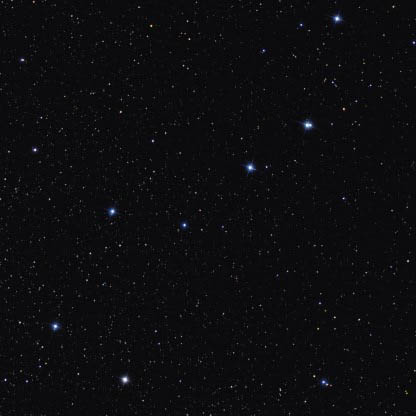Ursa Major: (292, 111, 322, 139), (241, 153, 267, 184), (323, 9, 352, 36), (45, 308, 67, 343), (171, 212, 194, 242), (114, 366, 137, 390), (99, 198, 122, 222)
